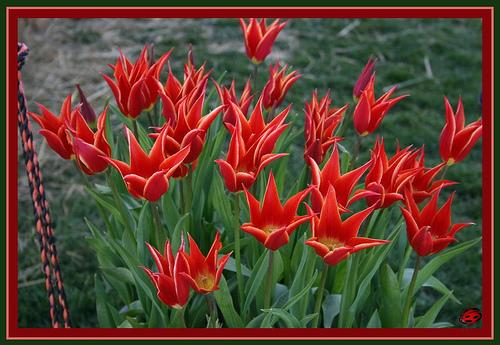tulip: (309, 196, 386, 266), (115, 132, 184, 203), (402, 190, 473, 259), (243, 182, 304, 248), (143, 240, 195, 307), (438, 95, 482, 173), (352, 77, 408, 135), (179, 237, 236, 290), (35, 97, 81, 160), (68, 118, 112, 177), (107, 67, 149, 119), (240, 17, 285, 65)
